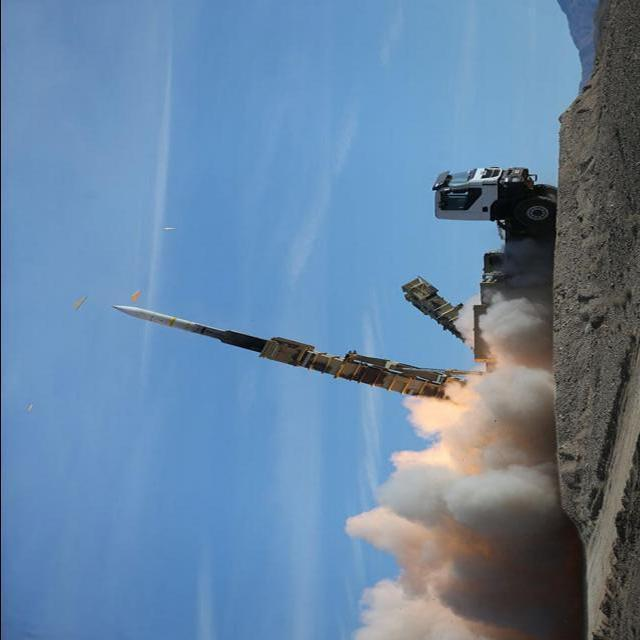missile: (119, 298, 260, 363)
